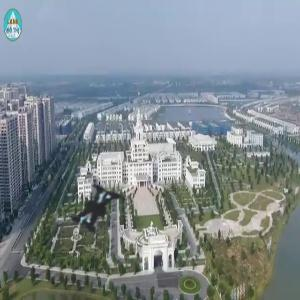drone: (34, 145, 168, 279)
